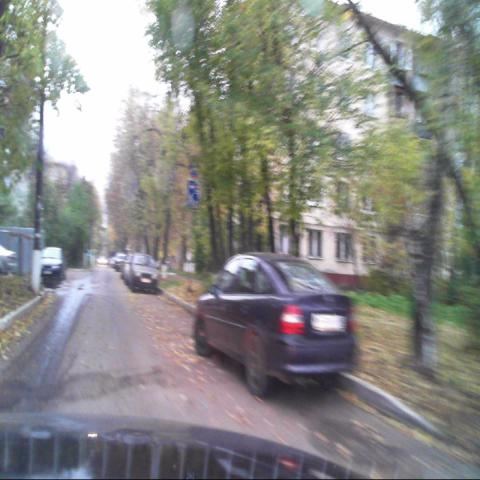5_21: (187, 181, 201, 210)
